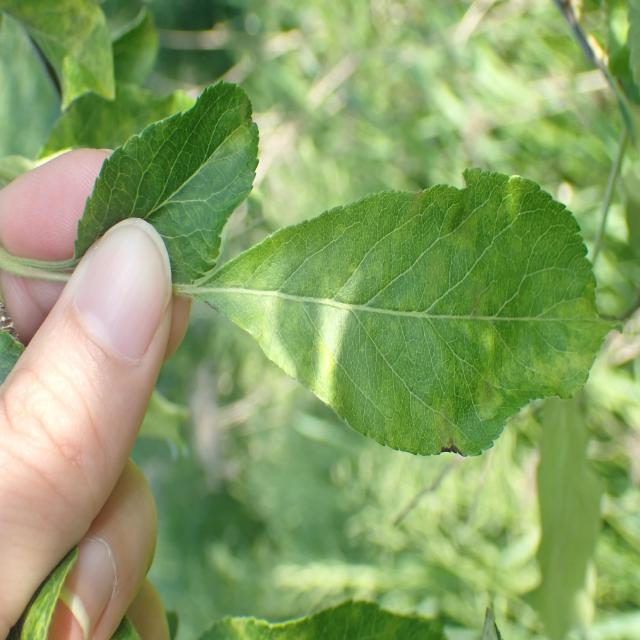scab: (234, 200, 600, 430)
